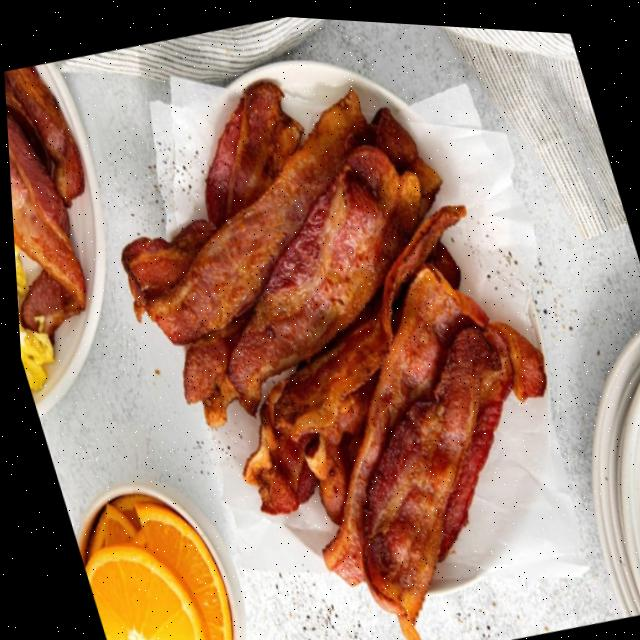Bacon: (355, 315, 541, 640), (142, 83, 365, 342), (315, 259, 484, 580), (222, 140, 418, 411), (5, 111, 81, 305), (268, 310, 384, 437), (202, 77, 300, 225)
